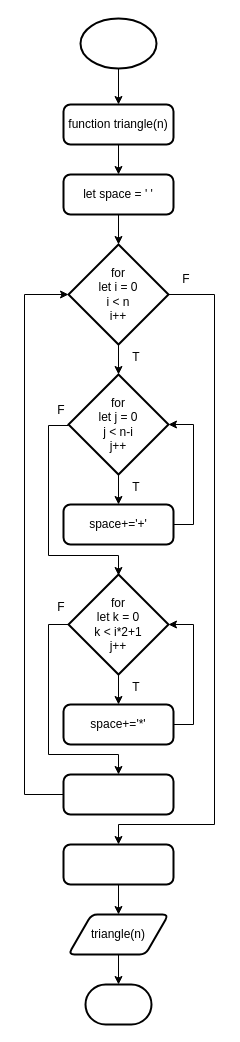
Some shapes in this 240 by 1042 pixel diagram are drawn without their labels. The shapes that lost their labels are listed below. From the top down, each one's box as (x1, y1, x2, y2) in pixels, then its label:
(79, 17, 157, 69): start
(62, 773, 174, 815): space+='\n'
(62, 843, 174, 885): return space
(84, 983, 152, 1025): end
